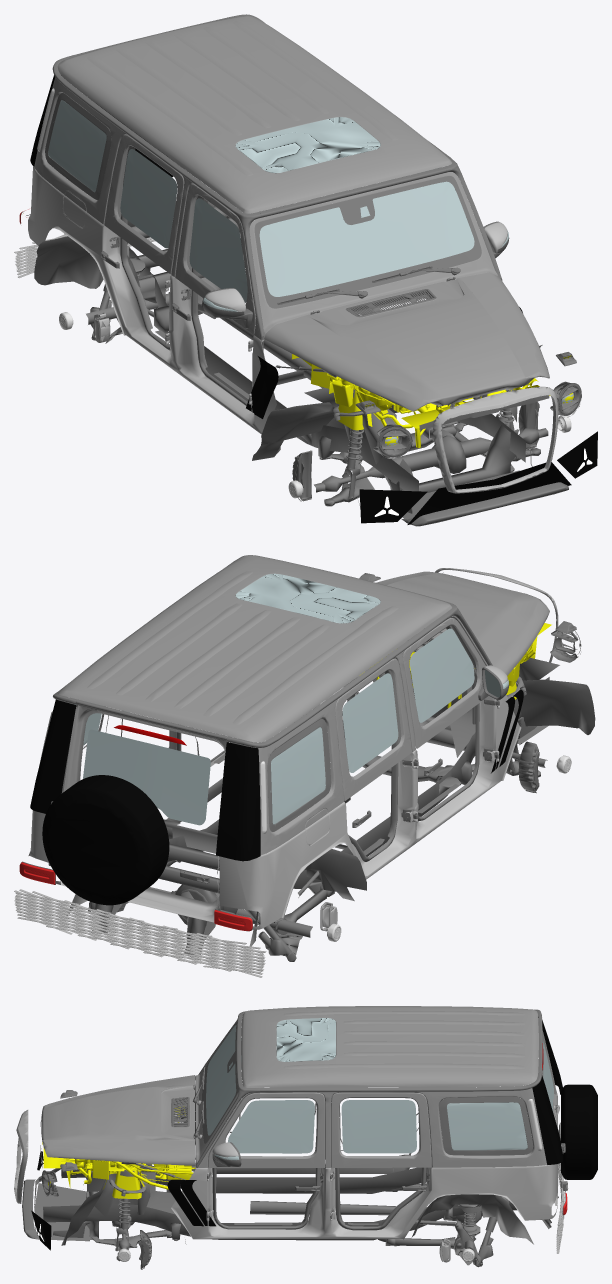
The model's file is body-refined.glb.
3 renders of one model, top to bottom at view 1: azimuth 30°, elevation 25°; view 2: azimuth 150°, elevation 25°; view 3: azimuth 270°, elevation 25°, orthographic. The views are drawn at different scales.
Visible parts, largest first — view 1: Group_71, Group, Group_72, Group_63.001, Group_26, Group_64, Group_26.003, Group.009, Group_26.002, Group_59, Group_61, Group_65 (+16 smaller); view 2: Group_71, Group, Group_26, запаска.003, Cube.004, бочина. зад.001, Group_72, Group_62.001, Group_26.002, Group_64, Group_59, Group_65 (+11 smaller); view 3: Group_71, Group, Group_72, Group_26, Group_26.002, Group_58, Group_60, Group_65, запаска.003, Group_4.001, Group_56, Group_2.002 (+16 smaller).
Boxes of the visible parts, x1,y1,x2,y2 form: Group_71: (57, 15, 452, 213); Group: (34, 146, 581, 526); Group_72: (264, 272, 549, 411); Group_63.001: (259, 181, 474, 296); Group_26: (28, 167, 456, 434); Group_64: (235, 117, 380, 173); Group_26.003: (249, 172, 498, 339); Group.009: (254, 176, 481, 308); Group_26.002: (34, 77, 260, 339); Group_59: (189, 198, 247, 302); Group_61: (120, 149, 177, 248); Group_65: (48, 100, 106, 192); Group_71: (58, 555, 452, 742); Group: (66, 625, 595, 961); Group_26: (28, 695, 521, 929); запаска.003: (42, 775, 169, 905); Cube.004: (14, 889, 266, 977); бочина. зад.001: (30, 699, 260, 861); Group_72: (376, 571, 549, 675); Group_62.001: (83, 729, 210, 825); Group_26.002: (59, 615, 487, 855); Group_64: (235, 573, 380, 623); Group_59: (410, 628, 474, 722); Group_65: (74, 704, 325, 824); Group_71: (241, 1006, 538, 1087); Group: (22, 1087, 558, 1267); Group_72: (41, 1075, 195, 1165); Group_26: (171, 1022, 558, 1239); Group_26.002: (198, 1085, 554, 1167); Group_58: (228, 1100, 314, 1153); Group_60: (341, 1100, 416, 1153); Group_65: (447, 1102, 527, 1150); запаска.003: (561, 1084, 597, 1179); Group_4.001: (331, 1092, 431, 1167); Group_56: (42, 1106, 195, 1199); Group_2.002: (208, 1092, 325, 1167).
Bounding box in the file's own units: 2.18 × 1.79 × 4.88.
